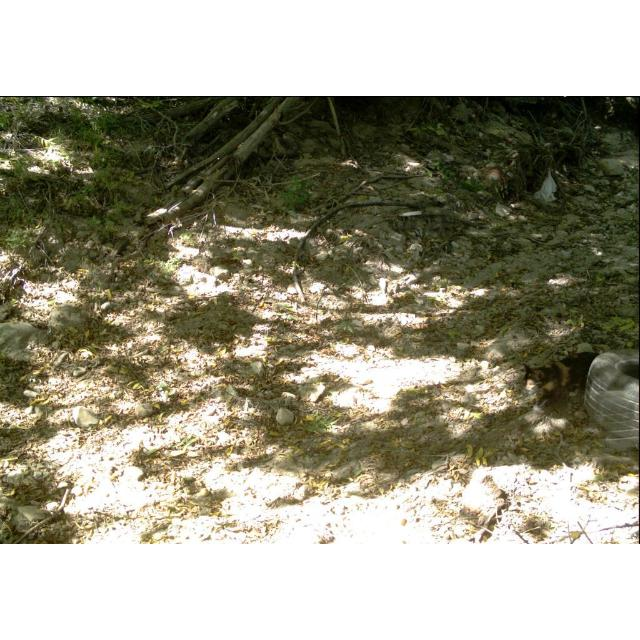animals: (512, 352, 606, 408)
